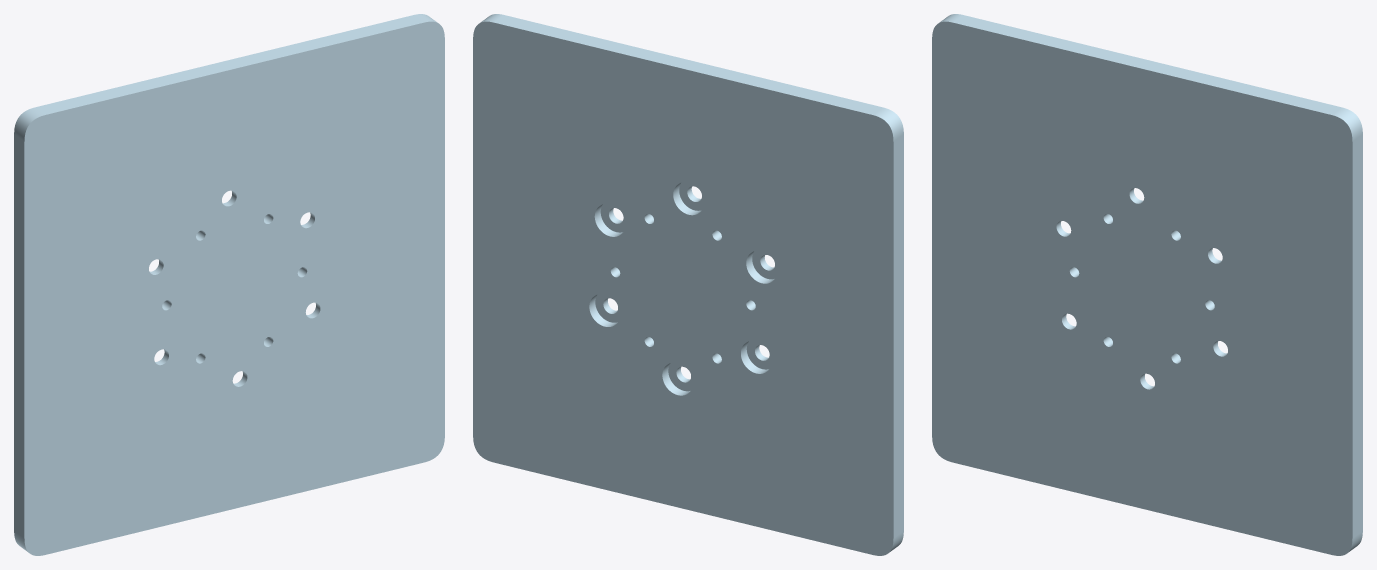
The picture shows the model from 3 angles, left to right: view 1: azimuth 30°, elevation 25°; view 2: azimuth 150°, elevation 25°; view 3: azimuth 330°, elevation 25°; orthographic projection.
Parts seen in each view (by area): view 1: mesh585, mesh562, mesh559; view 2: mesh558, mesh562, mesh559; view 3: mesh585, mesh560, mesh559.
Boxes of the visible parts, box(x1,y1,x2,y2) form: mesh585: box(24, 21, 444, 555); mesh562: box(14, 134, 24, 537); mesh559: box(35, 15, 423, 114); mesh558: box(473, 21, 893, 555); mesh562: box(893, 134, 903, 537); mesh559: box(494, 15, 882, 114); mesh585: box(932, 21, 1352, 555); mesh560: box(1352, 134, 1362, 537); mesh559: box(953, 15, 1341, 114).
Bounding box in the file's own units: 0.1631 × 0.1631 × 0.007.
